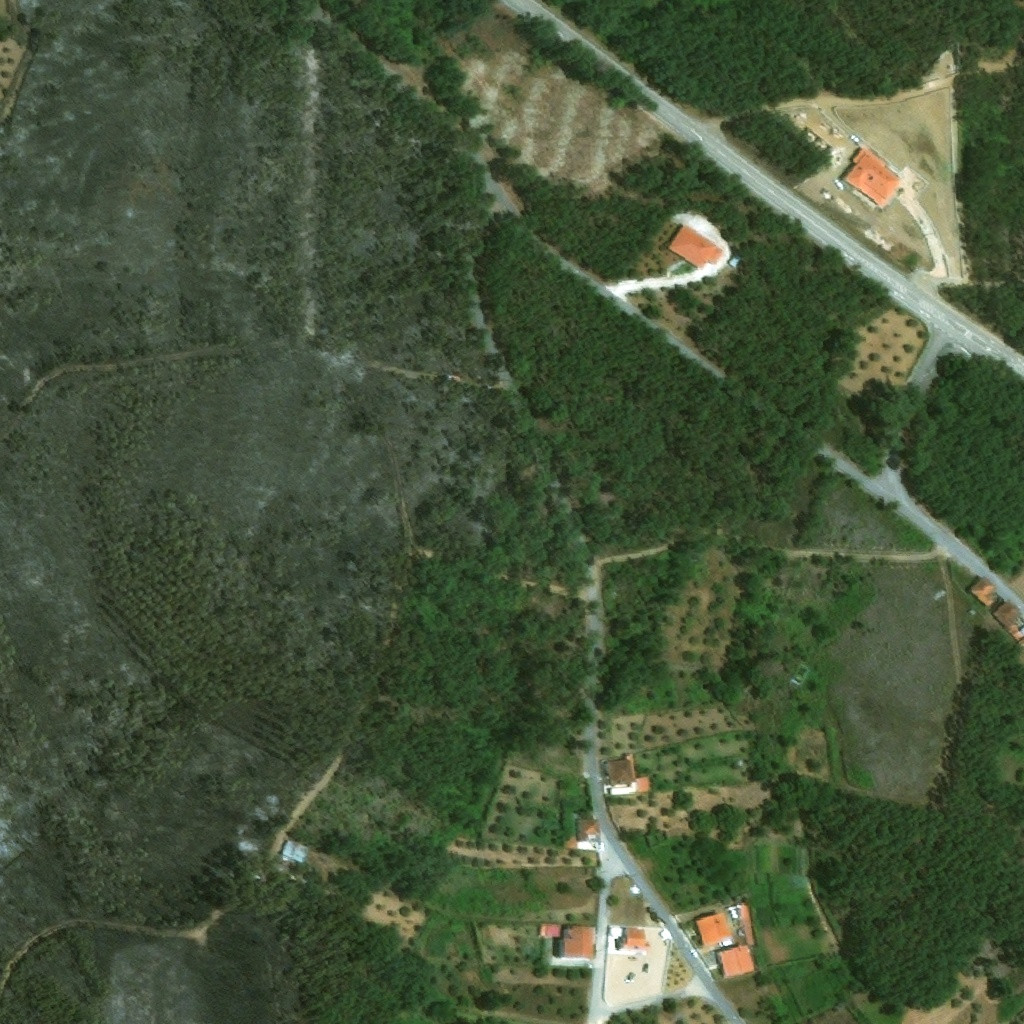0 no-damage: (841, 147, 904, 210), (667, 222, 724, 269), (604, 753, 651, 795), (696, 910, 736, 947), (716, 943, 756, 979), (992, 600, 1023, 646), (560, 926, 597, 958), (970, 575, 998, 608), (619, 928, 653, 951), (280, 840, 310, 863), (738, 902, 755, 942), (577, 818, 602, 843), (606, 958, 645, 970), (608, 927, 622, 951)
